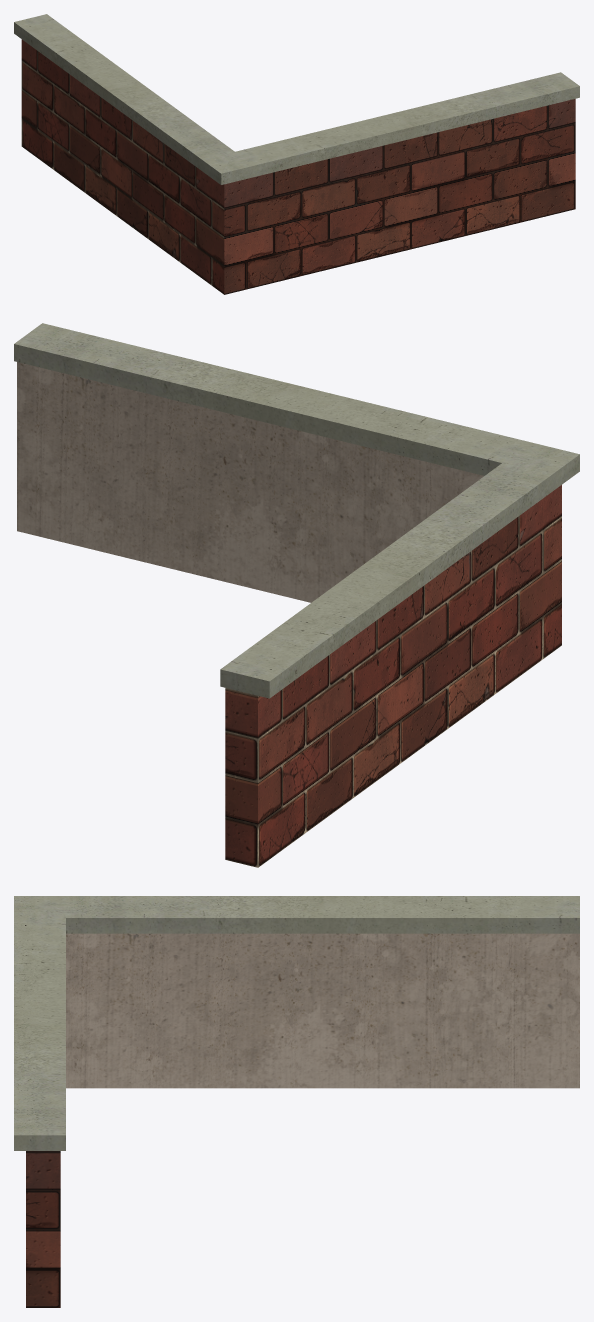
File: roof03_corner.fbx
3 renders of one model, top to bottom at view 1: azimuth 30°, elevation 25°; view 2: azimuth 150°, elevation 25°; view 3: azimuth 270°, elevation 25°, orthographic. The views are drawn at different scales.
Parts seen in each view (by area): view 1: roof03_corner; view 2: roof03_corner; view 3: roof03_corner.
Boxes of the visible parts, x1,y1,x2,y2 form: roof03_corner: (14,14,579,294); roof03_corner: (14,323,579,867); roof03_corner: (14,896,579,1307).
Size of the model in its own units: 327 by 110 by 327.
